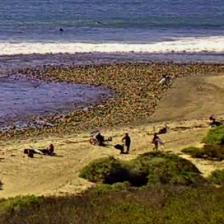surfer: (59, 28, 64, 32)
